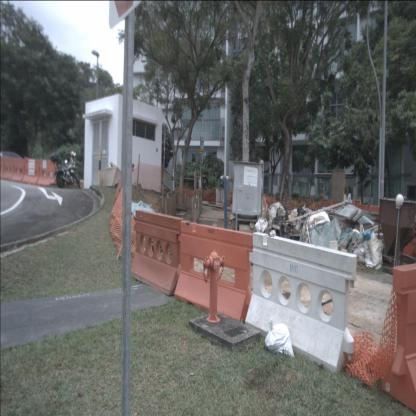barrier: (245, 231, 357, 375), (178, 222, 252, 327), (382, 262, 416, 413), (132, 206, 182, 296), (38, 158, 56, 188), (23, 157, 39, 186), (10, 159, 24, 184), (2, 159, 13, 180), (0, 159, 5, 181)
